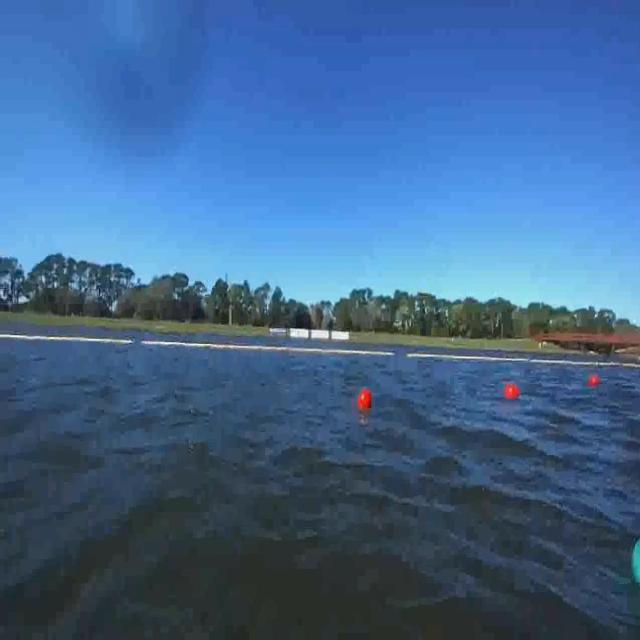green-buoy: (630, 535, 640, 590)
red-buoy: (358, 390, 372, 410), (505, 384, 521, 401), (590, 376, 600, 390)
